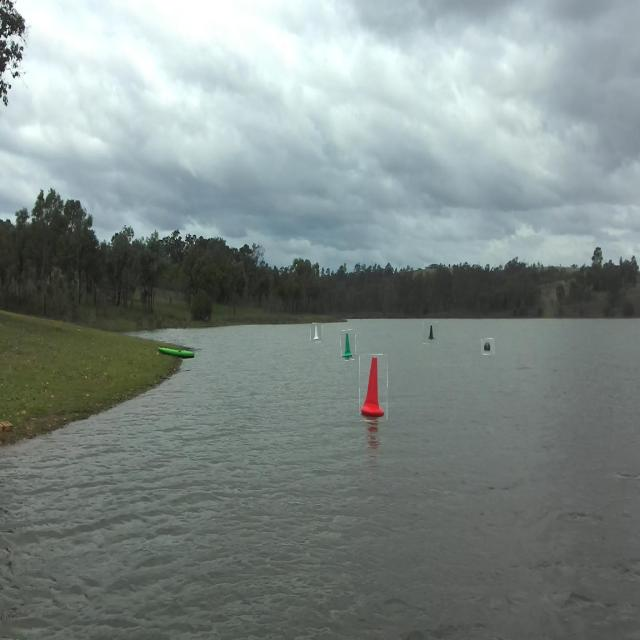Black_Buoy: (482, 335, 501, 367), (424, 311, 438, 341)
Green_Buoy: (344, 330, 366, 372)
Red_Buoy: (364, 356, 386, 420)
White_Buoy: (309, 324, 322, 343)
